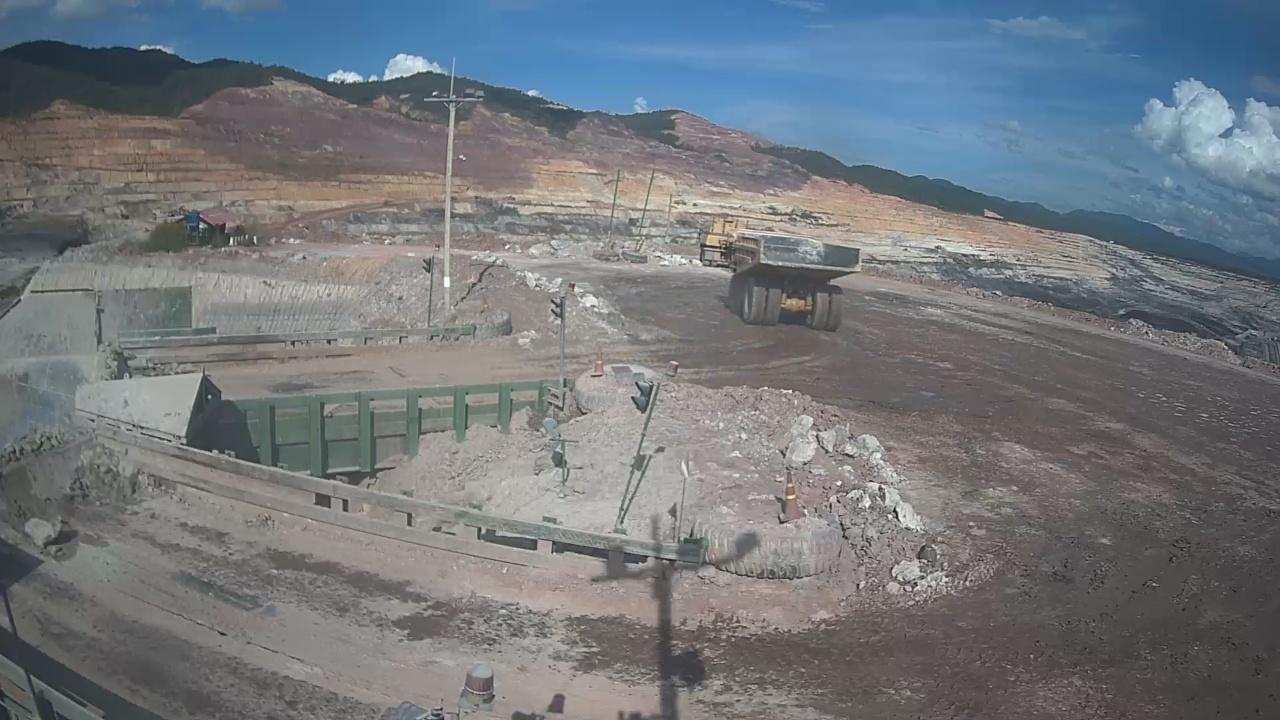empty_load: (752, 232, 851, 269)
mining_truck: (714, 216, 870, 331)
